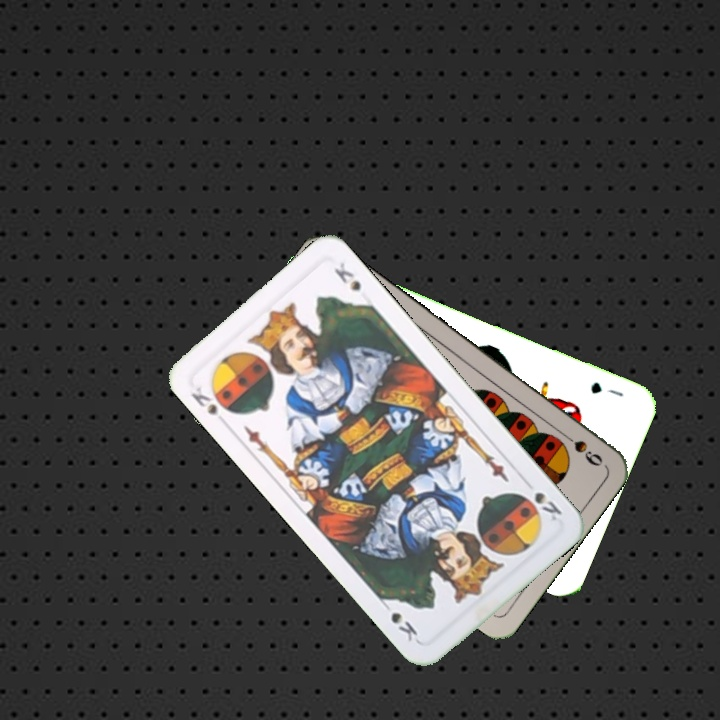GU: (586, 377, 626, 400)
S9: (556, 427, 606, 469)
SK: (187, 380, 237, 418), (519, 488, 565, 524)
